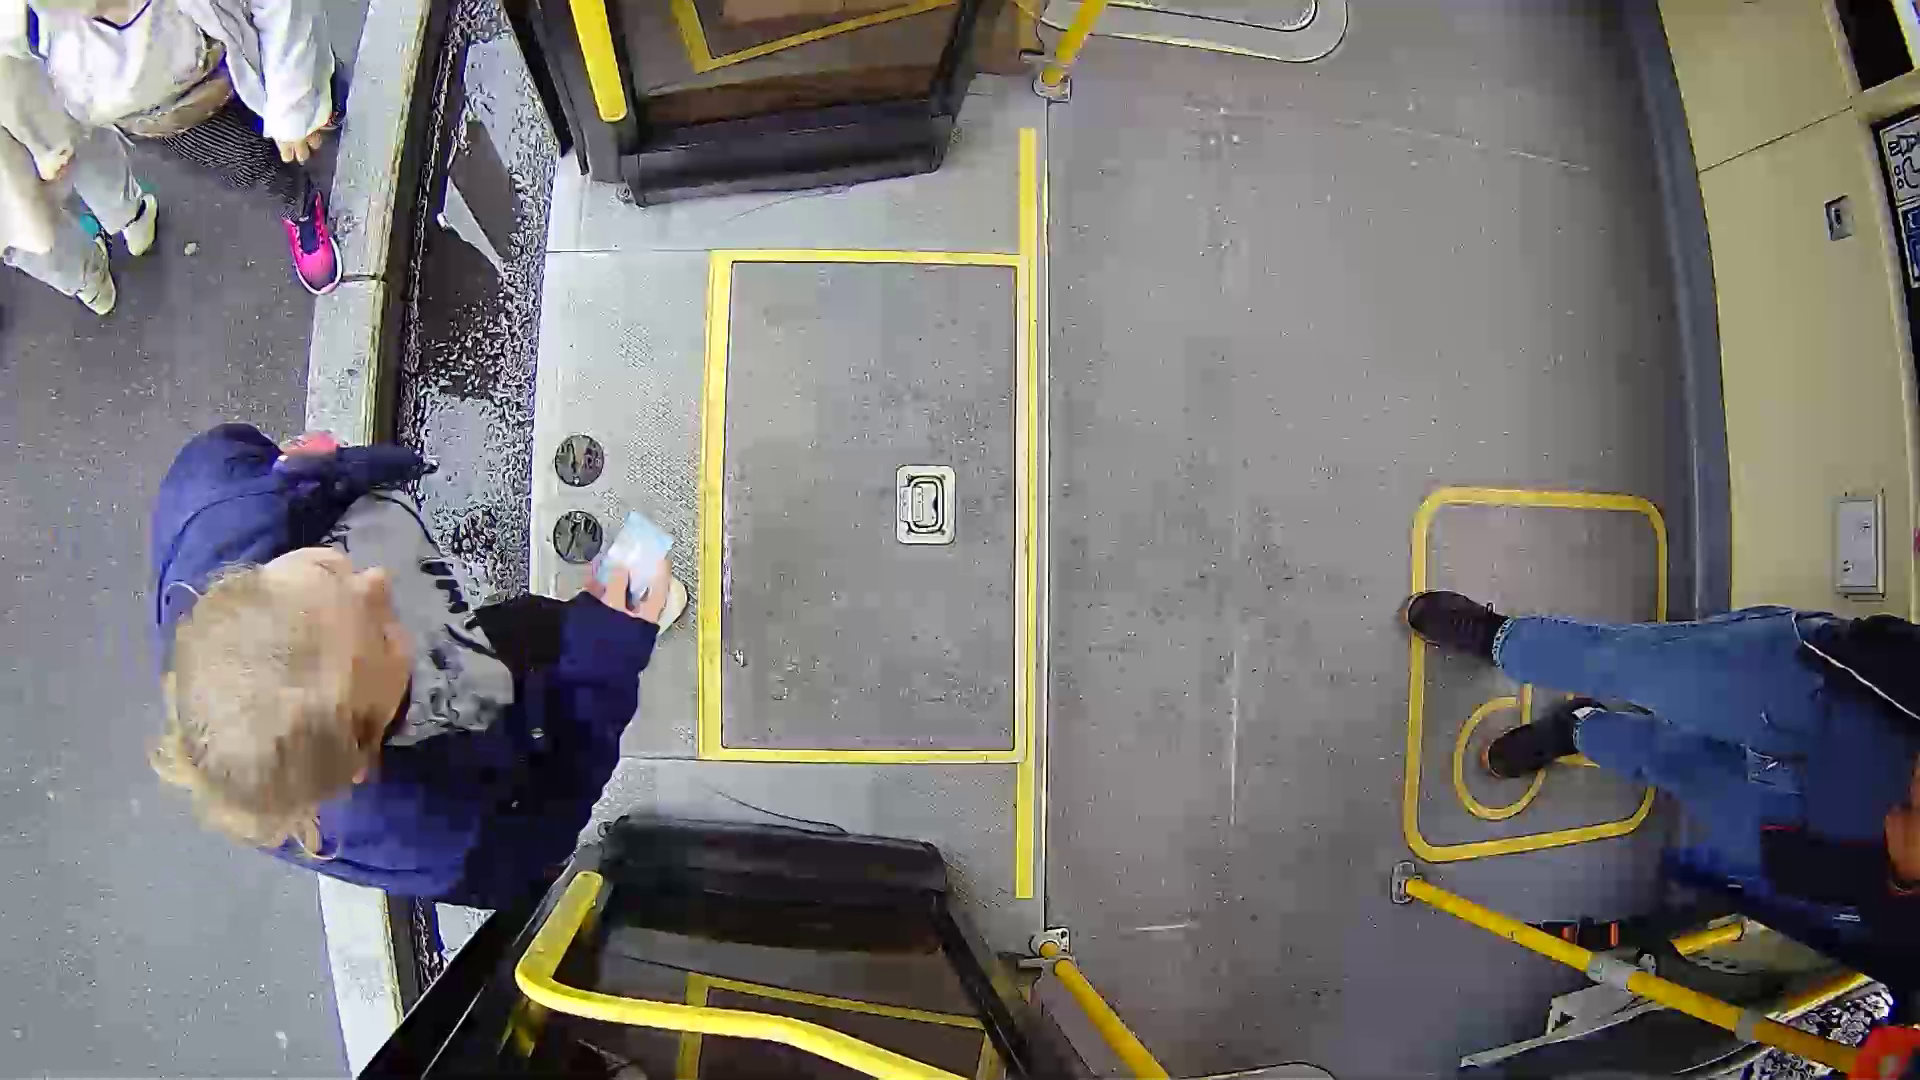person: (111, 377, 913, 905)
